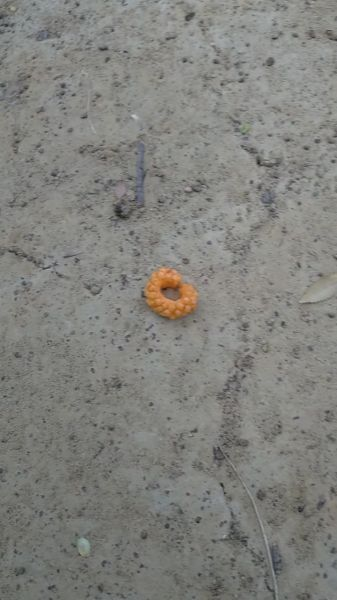eggs: (147, 263, 198, 320)
